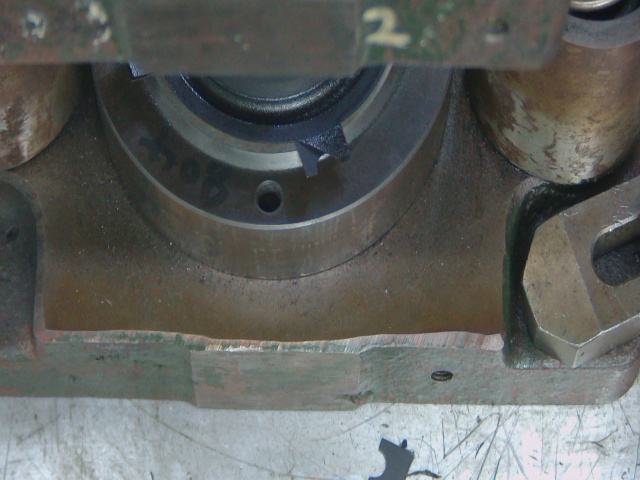OK: (295, 131, 360, 184)
